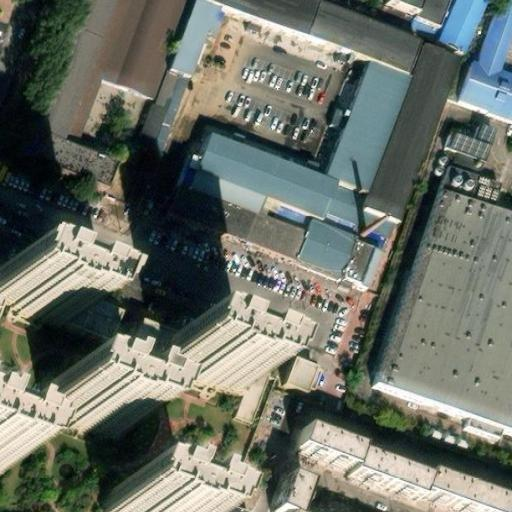building: (363, 193, 512, 437), (292, 424, 512, 512), (354, 54, 455, 235), (181, 147, 359, 241), (16, 35, 114, 193), (126, 330, 262, 411), (316, 72, 400, 203), (171, 198, 297, 268), (93, 0, 181, 87), (33, 374, 129, 432), (157, 350, 251, 408), (331, 220, 394, 298), (172, 15, 218, 93), (287, 226, 346, 284), (456, 65, 512, 126), (431, 166, 497, 213), (471, 0, 512, 75), (61, 0, 116, 48), (439, 125, 491, 164), (67, 313, 116, 352), (265, 473, 300, 512), (93, 488, 143, 512), (382, 0, 421, 27), (444, 118, 470, 141), (23, 294, 45, 309)
